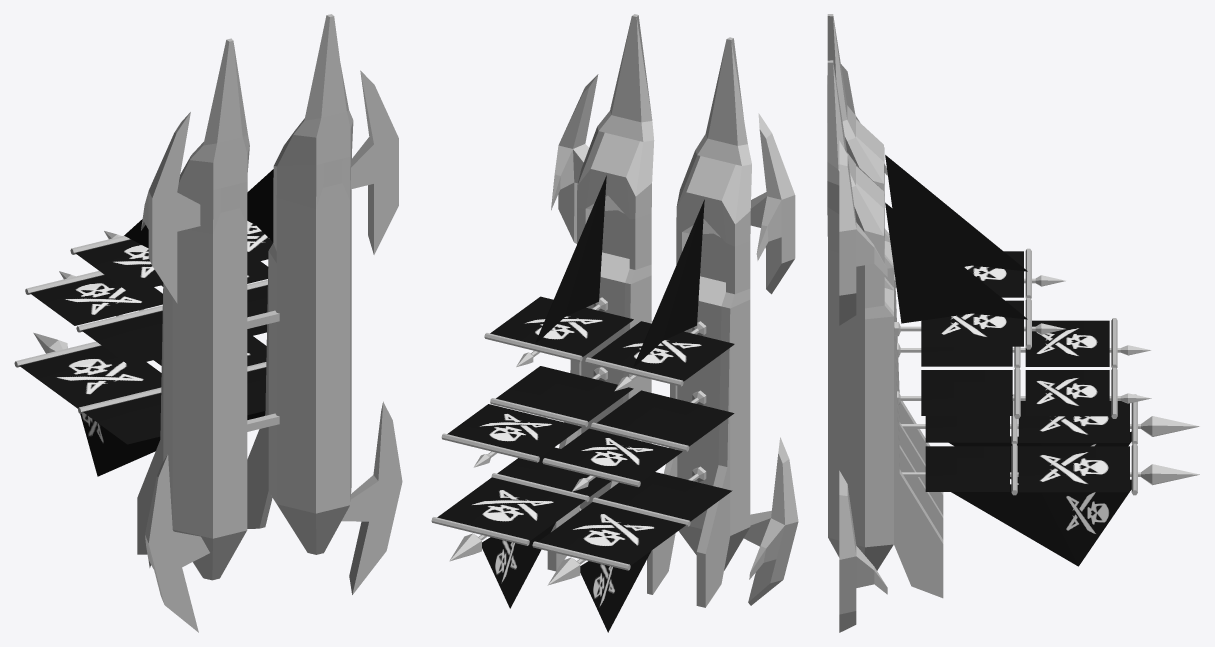
File: skin_9.fbx
3 views of the same model, side by side, from view 1: azimuth 30°, elevation 25°; view 2: azimuth 150°, elevation 25°; view 3: azimuth 270°, elevation 25° (orthographic). The views are drawn at different scales.
Visible parts, largest first — view 1: Cube.640; view 2: Cube.640; view 3: Cube.640.
Boxes of the visible parts, x1=… form: Cube.640: x1=14, y1=14, x2=402, y2=632; Cube.640: x1=431, y1=14, x2=798, y2=632; Cube.640: x1=827, y1=14, x2=1199, y2=632.
Bounding box in the file's own units: 905 × 2010 × 1216.
